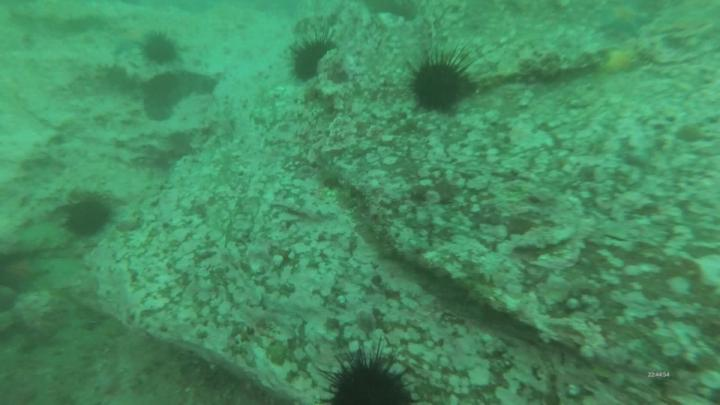echinus: (314, 343, 418, 405), (411, 51, 473, 113), (56, 192, 113, 242), (286, 36, 340, 87), (141, 31, 184, 67)
holothurian: (140, 71, 219, 124)
starfish: (598, 8, 659, 43)
